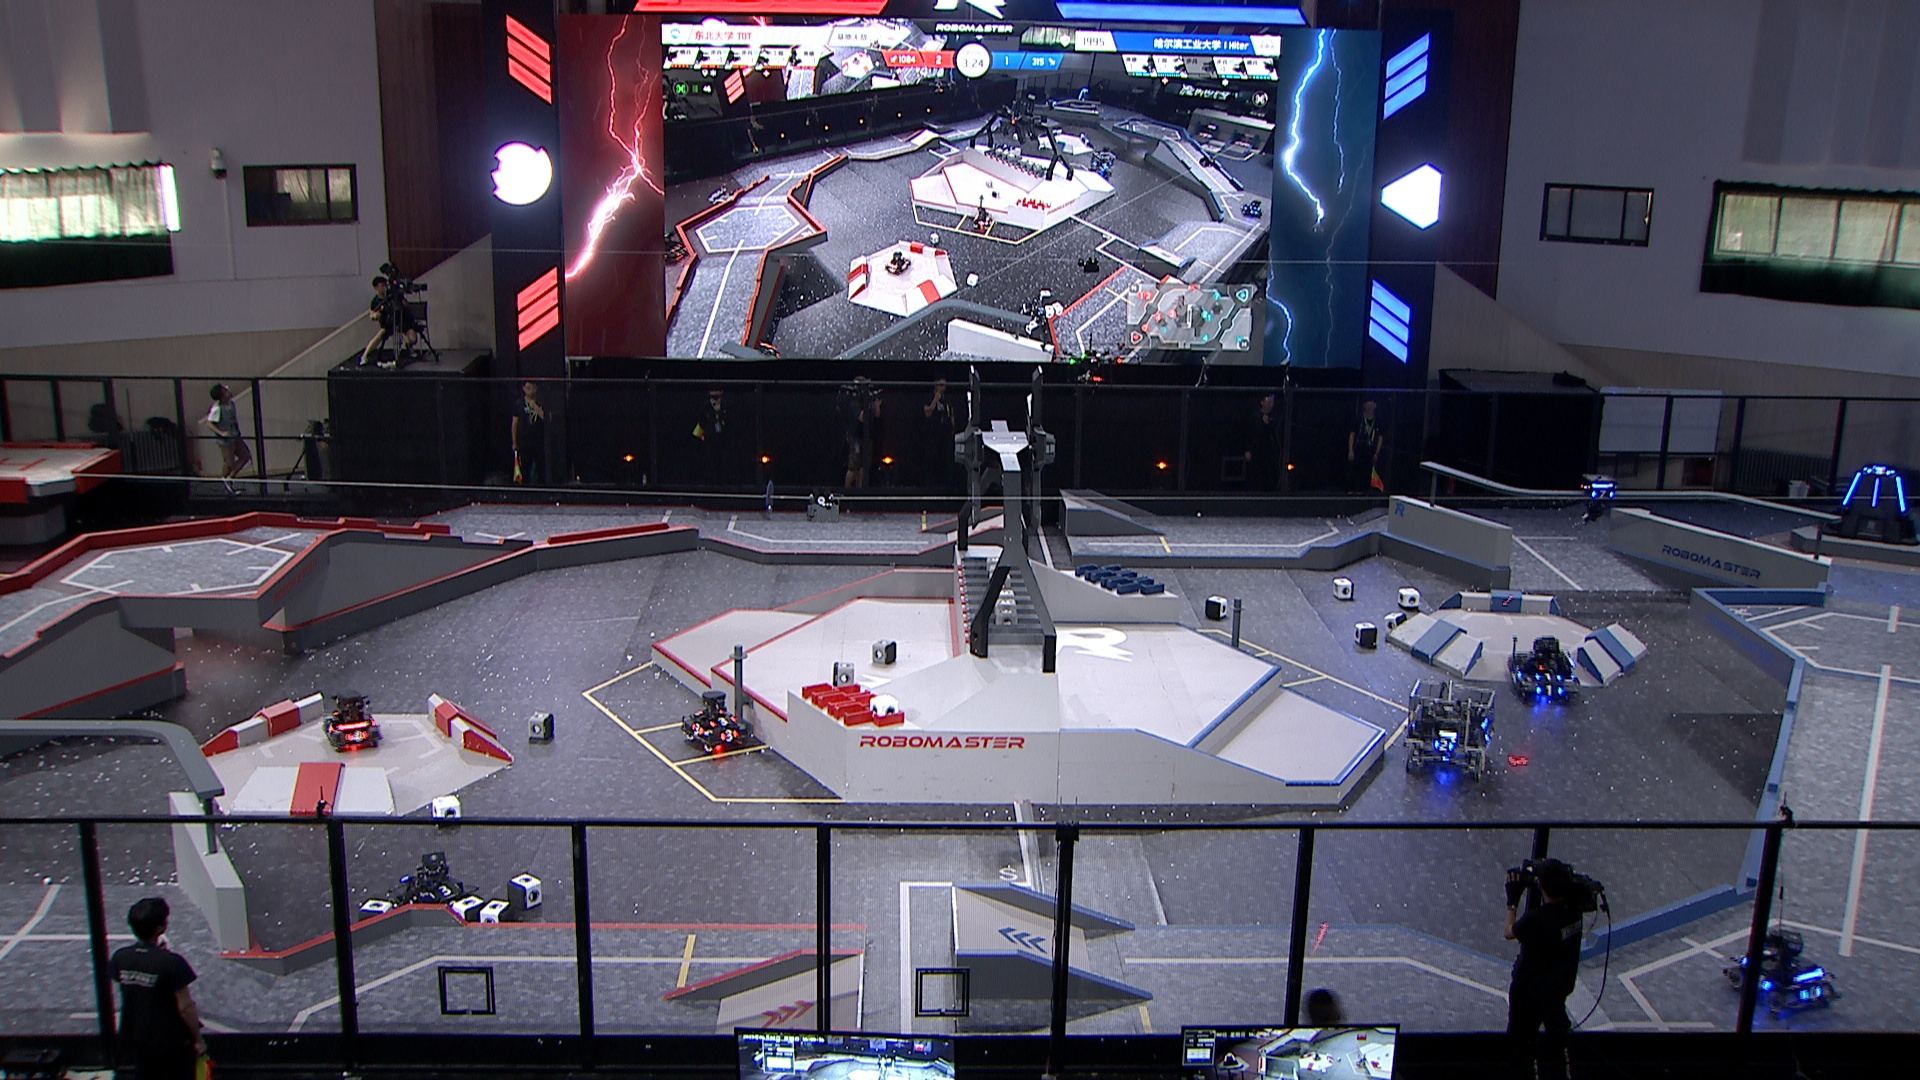armor: (1841, 469, 1865, 508), (429, 882, 462, 899), (1892, 476, 1908, 512), (1799, 982, 1820, 1002), (1750, 972, 1770, 992), (1866, 462, 1892, 476), (1536, 683, 1563, 698), (345, 727, 365, 744), (1433, 736, 1455, 752), (717, 727, 740, 741), (1870, 476, 1880, 505), (1592, 485, 1614, 498), (323, 719, 339, 736), (711, 716, 735, 727), (1536, 671, 1563, 680), (690, 723, 705, 735)
base: (1821, 462, 1920, 551)
car: (1400, 673, 1498, 785), (1727, 926, 1841, 1019), (390, 847, 477, 920), (1509, 632, 1581, 705), (676, 690, 750, 757), (318, 688, 382, 756)
ignore: (659, 233, 688, 264), (1088, 146, 1117, 175), (754, 335, 782, 363), (969, 204, 996, 233), (884, 251, 911, 276), (708, 186, 733, 207), (1240, 199, 1263, 219), (1072, 86, 1091, 105), (1044, 95, 1060, 111)
watcher: (1576, 469, 1619, 524)
